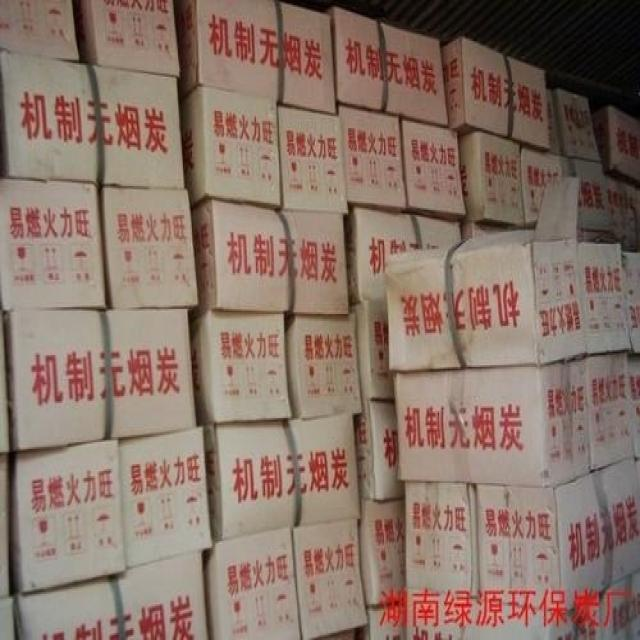box: (387, 177, 586, 372), (4, 309, 196, 451), (393, 358, 591, 490), (1, 46, 184, 188), (476, 457, 639, 614), (202, 415, 361, 543), (191, 198, 349, 316), (9, 437, 127, 594), (14, 553, 209, 638), (321, 5, 448, 126), (0, 177, 106, 311), (116, 427, 215, 570), (179, 87, 279, 212), (443, 36, 550, 152), (188, 309, 293, 423), (344, 205, 463, 305), (102, 186, 200, 307), (202, 531, 302, 638), (404, 589, 602, 638), (402, 480, 479, 601), (293, 521, 369, 638), (285, 312, 364, 418), (278, 104, 347, 215), (79, 0, 180, 75), (337, 106, 406, 208), (457, 130, 526, 229), (399, 116, 466, 213), (577, 241, 631, 360), (584, 352, 637, 471), (356, 495, 406, 608), (355, 398, 404, 502), (0, 0, 79, 60), (348, 300, 394, 399), (521, 143, 573, 227), (589, 106, 639, 188), (547, 90, 600, 164), (572, 157, 613, 230), (602, 171, 640, 237), (622, 253, 640, 352), (358, 601, 406, 638), (0, 309, 12, 454), (0, 454, 10, 599), (627, 358, 640, 457), (0, 596, 17, 640)
